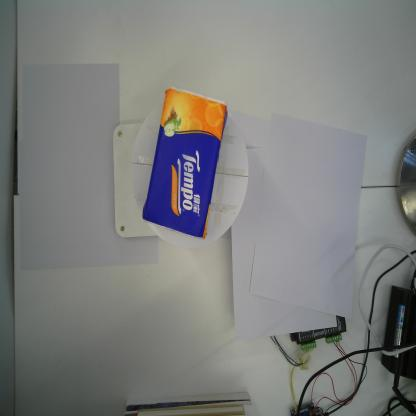Tissue: (140, 86, 229, 240)
